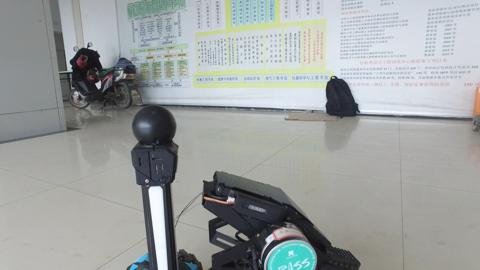bag: (316, 68, 368, 125)
chariot: (116, 110, 372, 270)
